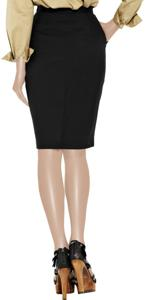F_tailored skirt: (26, 7, 110, 158)
